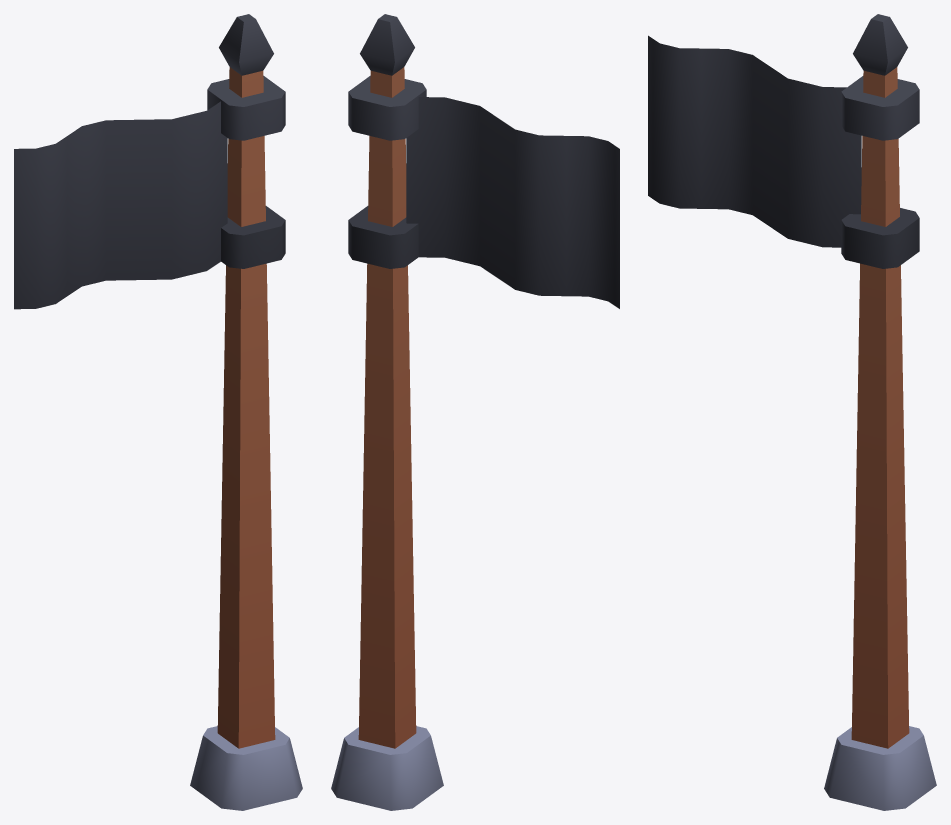
The model's file is flag_pirate.fbx.
The picture shows the model from 3 angles, left to right: view 1: azimuth 30°, elevation 25°; view 2: azimuth 150°, elevation 25°; view 3: azimuth 330°, elevation 25°; orthographic projection.
Visible parts, largest first — view 1: flag-pirate-high; view 2: flag-pirate-high; view 3: flag-pirate-high.
Part boxes in pixels (bbox=[...]): flag-pirate-high: bbox=[14, 14, 302, 810]; flag-pirate-high: bbox=[331, 14, 619, 810]; flag-pirate-high: bbox=[648, 14, 936, 810].
Bounding box in the file's own units: 2.79 × 7.5 × 0.8318.
